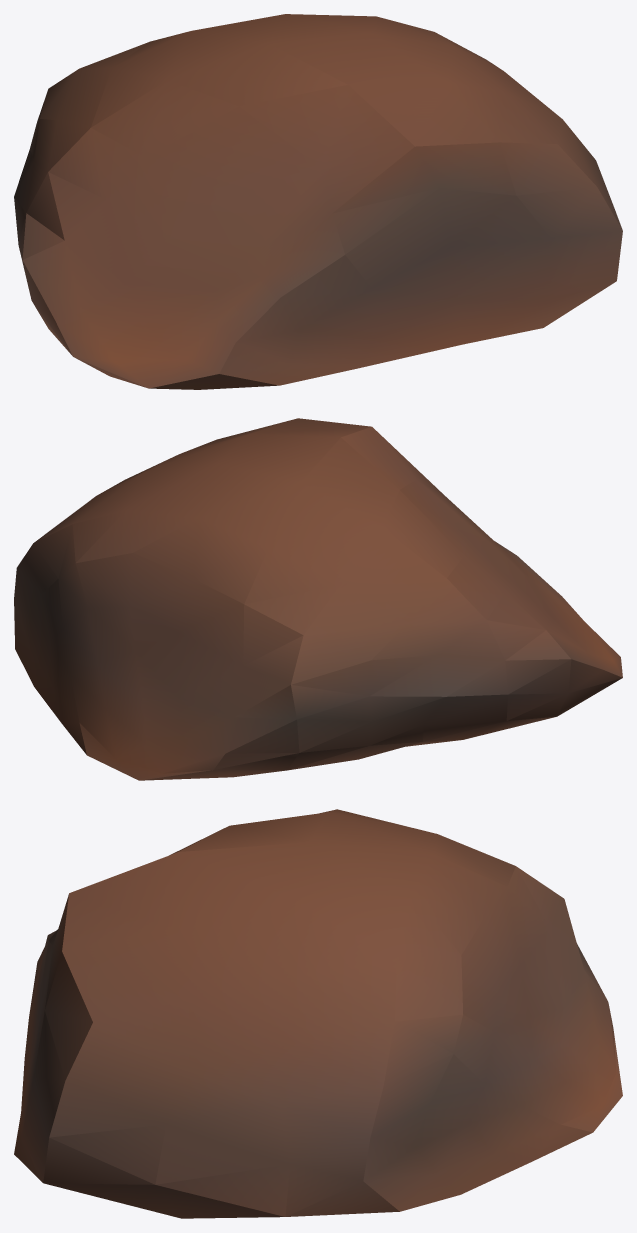
Rendered from rock_small_05.glb.
3 views of the same model, one above another, from view 1: azimuth 30°, elevation 25°; view 2: azimuth 150°, elevation 25°; view 3: azimuth 270°, elevation 25° (orthographic). The views are drawn at different scales.
Parts seen in each view (by area): view 1: rock; view 2: rock; view 3: rock.
Boxes of the visible parts, <box> form: rock: <box>14,14,622,389</box>; rock: <box>14,418,622,780</box>; rock: <box>14,809,622,1218</box>.
Bounding box in the file's own units: 0.62 × 0.2318 × 0.5362.
